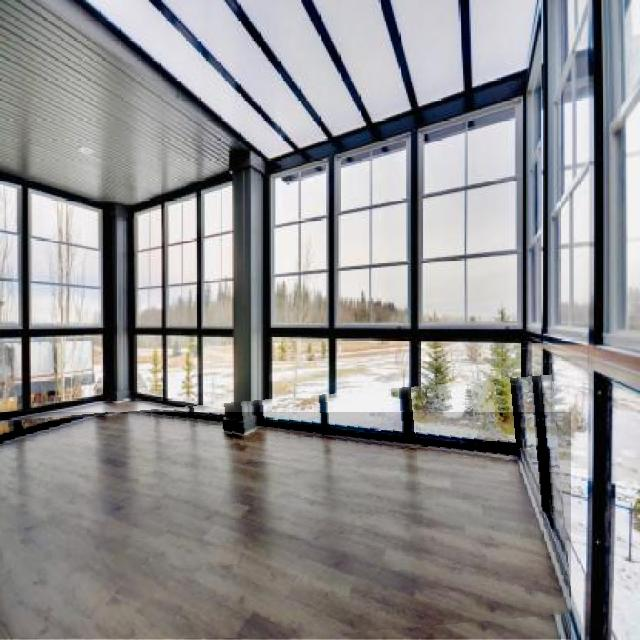floor: (0, 412, 571, 639)
